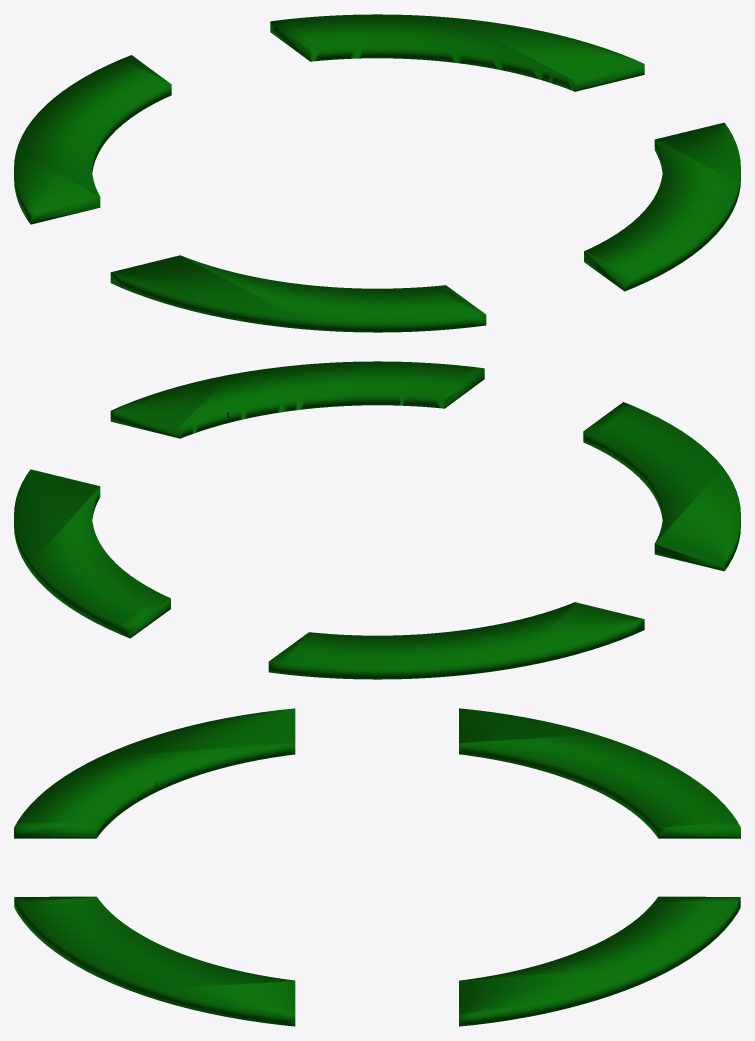
File: selector.glb
The picture shows the model from 3 angles, top to bottom: view 1: azimuth 30°, elevation 25°; view 2: azimuth 150°, elevation 25°; view 3: azimuth 270°, elevation 25°; orthographic projection. The views are drawn at different scales.
Parts seen in each view (by area): view 1: Object_2, Object_3, Object_1, Object_4; view 2: Object_1, Object_4, Object_2, Object_3; view 3: Object_1, Object_2, Object_3, Object_4.
Boxes of the visible parts, x1,y1,x2,y2 form: Object_2: [110, 255, 486, 332]; Object_3: [270, 14, 644, 91]; Object_1: [14, 55, 171, 224]; Object_4: [584, 122, 740, 291]; Object_1: [268, 602, 644, 679]; Object_4: [110, 361, 484, 438]; Object_2: [583, 402, 740, 571]; Object_3: [14, 469, 170, 638]; Object_1: [459, 708, 740, 838]; Object_2: [14, 708, 295, 838]; Object_3: [459, 896, 740, 1026]; Object_4: [14, 896, 295, 1026].
Bounding box in the file's own units: 101 × 1.7 × 101.
